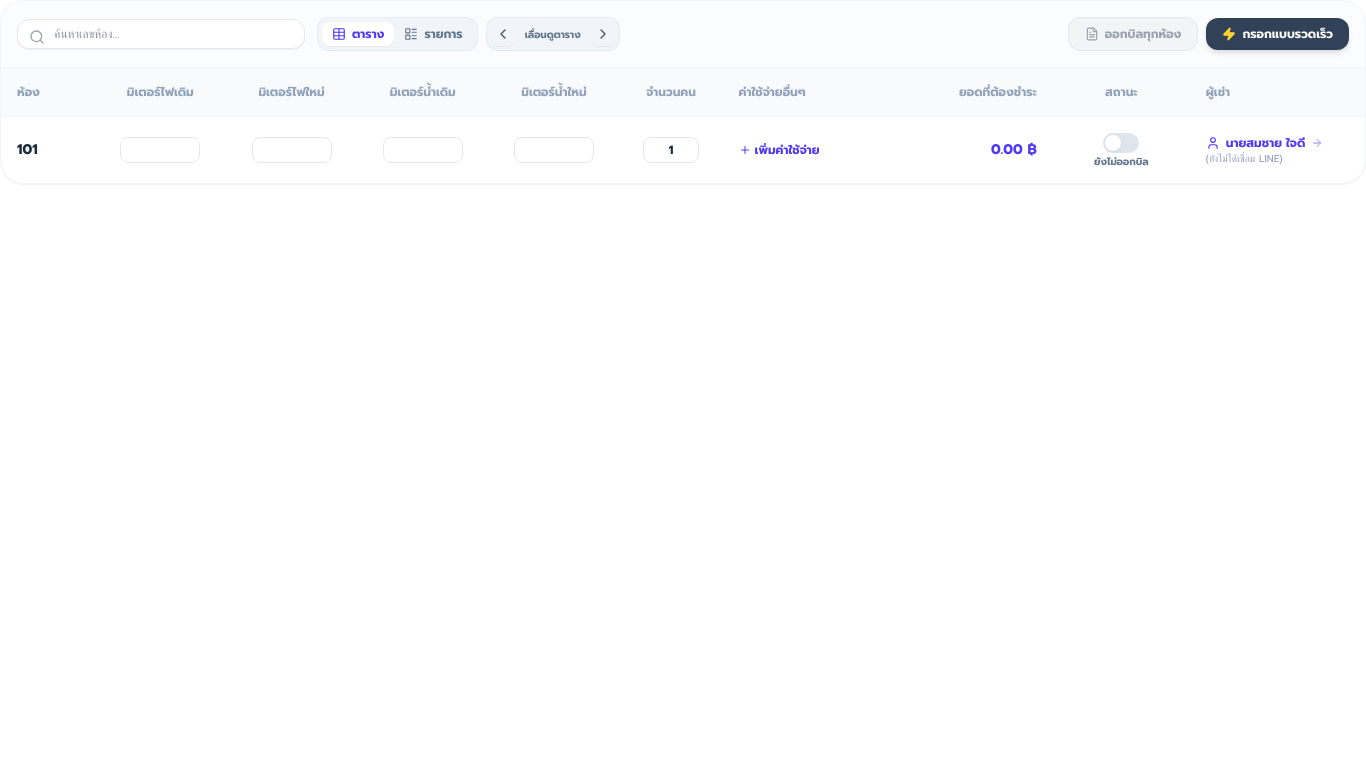
Direct Access Grant & Staff Workspace Suite (DAG-01 to DAG-07) › SPM-02 & SPM-03: Staff Meter Controls & Tenant Click Toast › disables "ออกบิลทุกห้อง" for staff and displays toast when staff clicks tenant name
This screenshot has width=1366, height=768.
Expected: the button "ออกบิลทุกห้อง" is disabled, x1=1068 y1=17 x2=1198 y2=51
Click the button "นายสมชาย ใจดี" at [1265, 143], box x1=1206 y1=135 x2=1323 y2=151
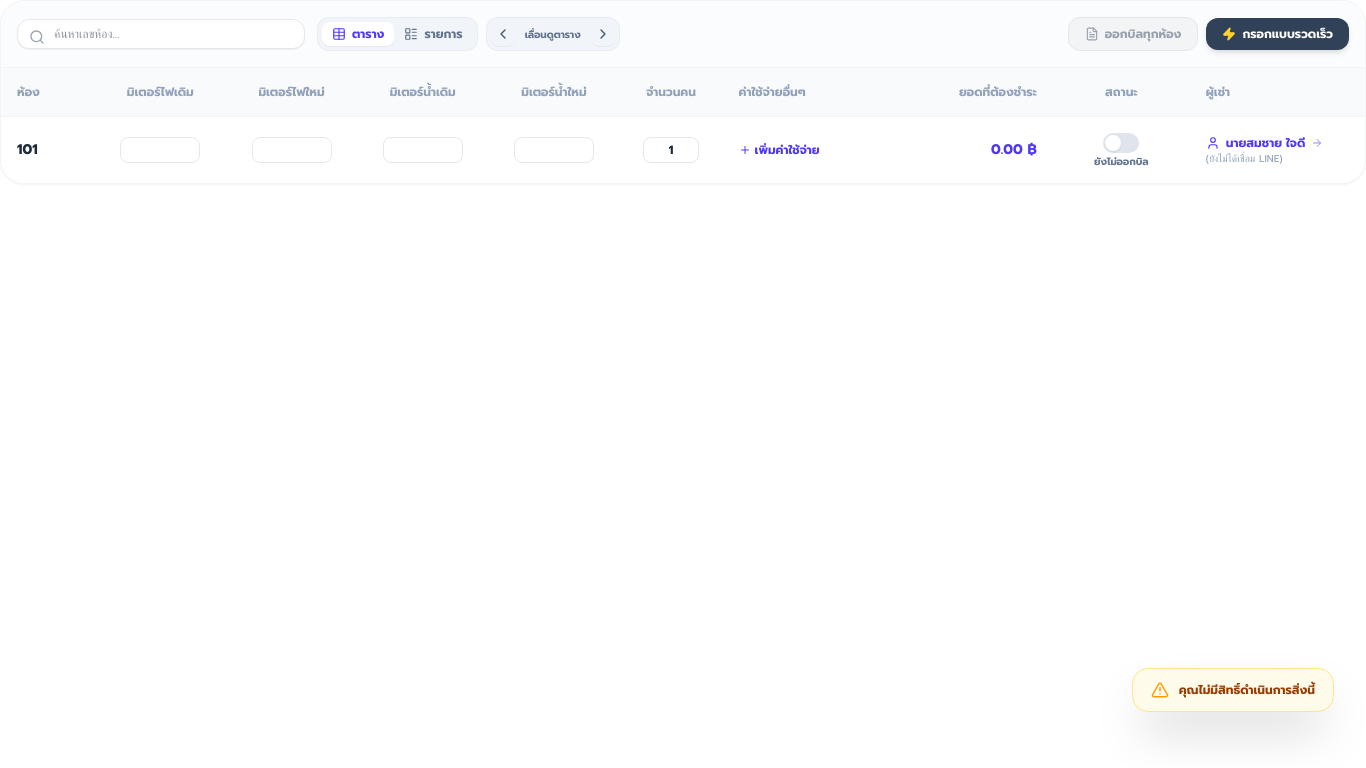
Expected: the text "คุณไม่มีสิทธิ์ดำเนินการสิ่งนี้" is shown, x1=1179 y1=682 x2=1315 y2=698
